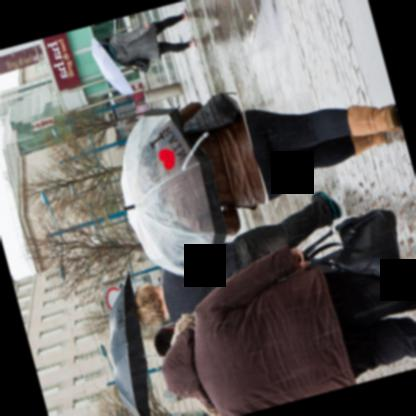handbag: (305, 213, 402, 279), (183, 90, 241, 130), (115, 56, 150, 73)
